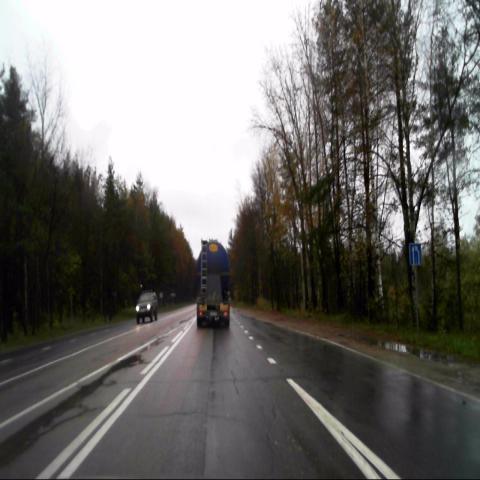5_15_5: (410, 244, 421, 268)
